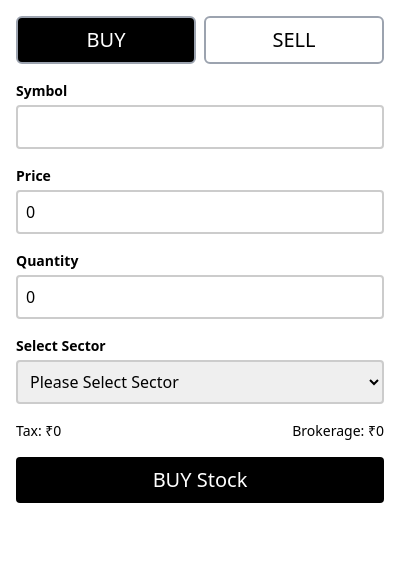
Scenario: BuySellForm › submits the form successfully with valid data
Type "AAPL" into the field labelled "Symbol" at (200, 127), box [16,105,384,149]
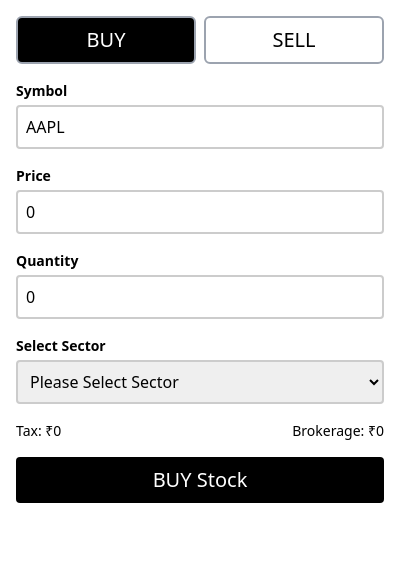
Replace the text in the number field labelled "Price" with "150" at (200, 212), box [16,190,384,234]
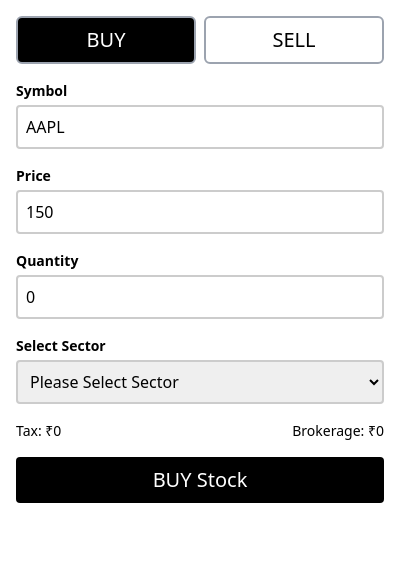
Replace the text in the number field labelled "Quantity" with "10" at (200, 297), box [16,275,384,319]
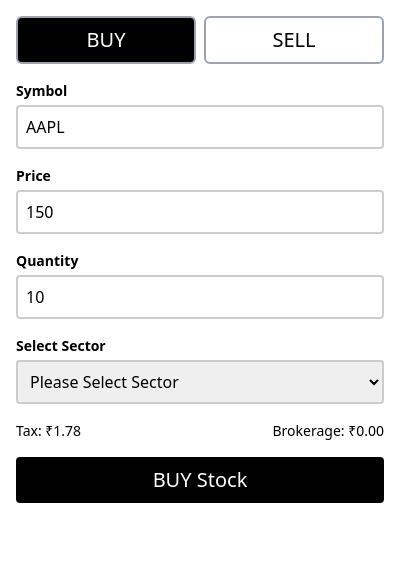
Select "Technology" in the dropdown labelled "Select Sector" at (200, 382), box [16,360,384,404]
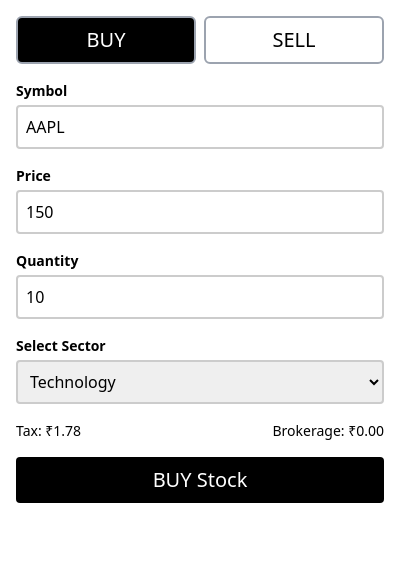
Click the button "BUY Stock" at (200, 480), box [16,457,384,503]
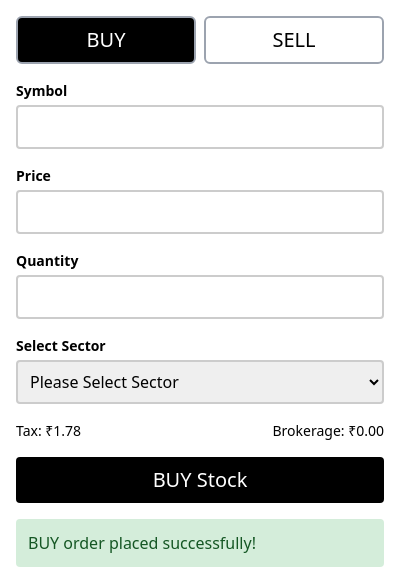
Now the text "BUY order placed successfully!" is shown, box [28,532,256,554]
